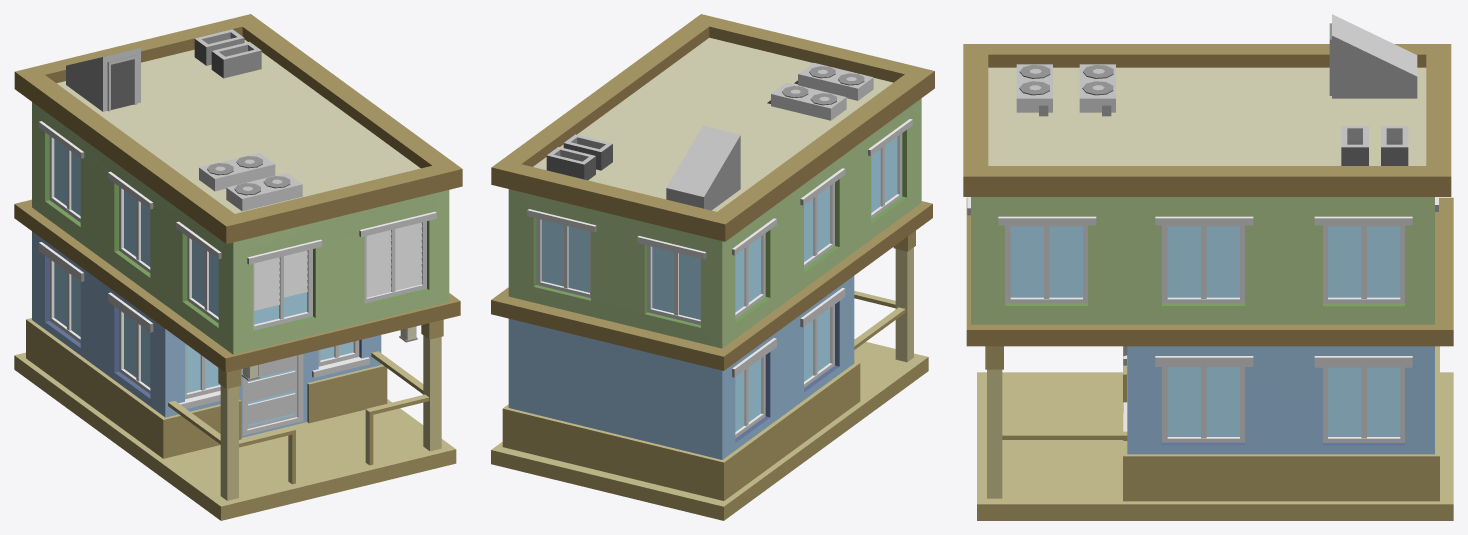
Rendered from house_small_1_002.glb.
3 views of the same model, side by side, from view 1: azimuth 30°, elevation 25°; view 2: azimuth 150°, elevation 25°; view 3: azimuth 270°, elevation 25° (orthographic). The views are drawn at different scales.
Parts seen in each view (by area): view 1: house_small_1_002; view 2: house_small_1_002; view 3: house_small_1_002.
Boxes of the visible parts, x1,y1,x2,y2 form: house_small_1_002: [14, 14, 462, 520]; house_small_1_002: [491, 14, 934, 520]; house_small_1_002: [963, 14, 1453, 520].
Bounding box in the file's own units: 4.92 × 6.82 × 7.67.
1 material, 1 textured.
